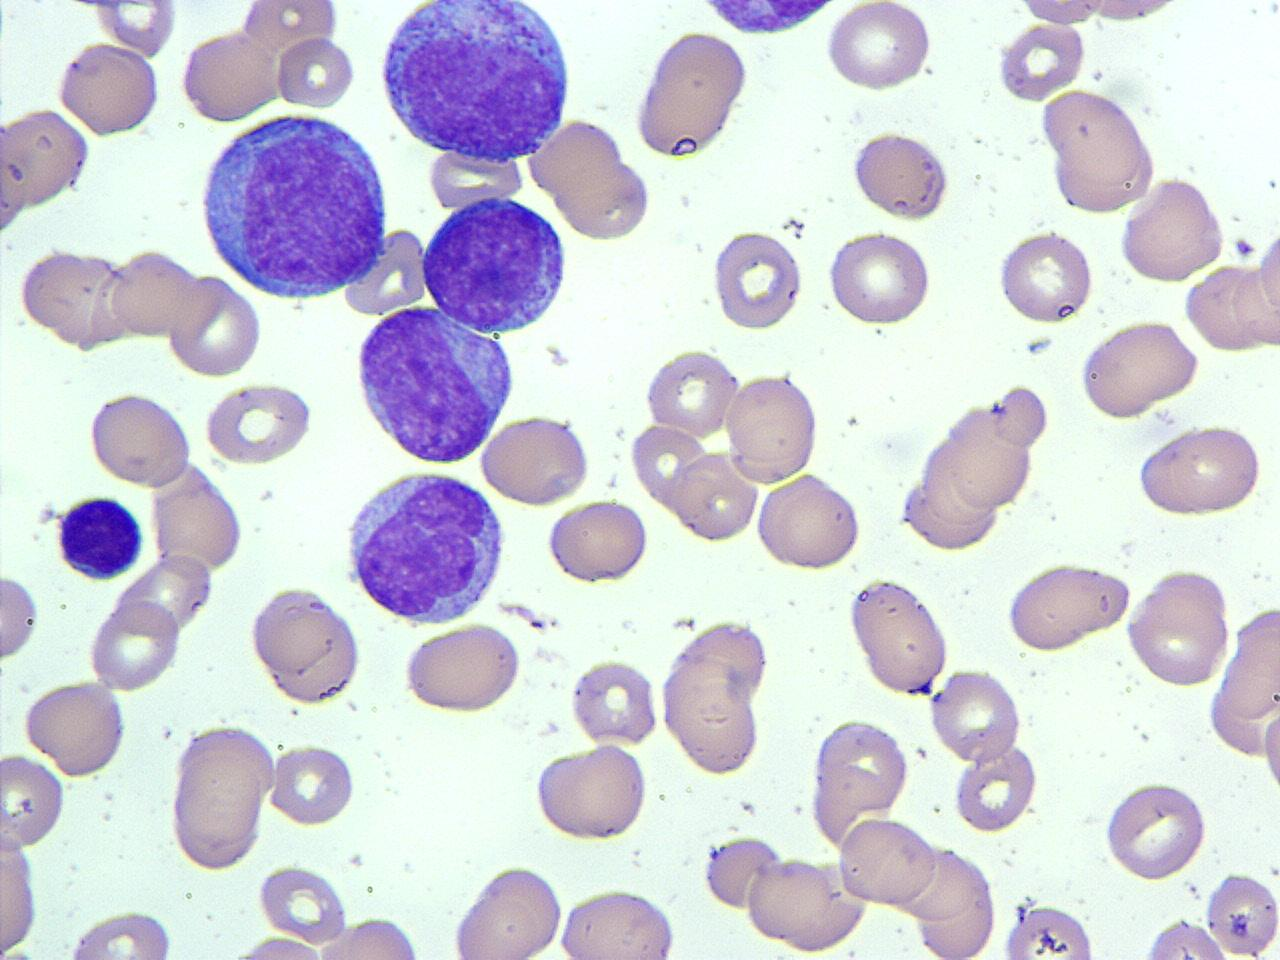Platelets: (1230, 234, 1256, 261), (1012, 899, 1027, 924)
RBC: (166, 722, 274, 874), (1037, 87, 1161, 216), (632, 29, 752, 161), (251, 586, 364, 708), (1124, 568, 1234, 690), (658, 654, 764, 778), (846, 575, 952, 697), (1078, 317, 1202, 421), (1134, 421, 1262, 520), (746, 853, 872, 953), (1117, 176, 1229, 285), (1006, 560, 1133, 654), (533, 741, 649, 843), (401, 620, 522, 717), (723, 368, 822, 484), (1102, 779, 1210, 884), (17, 246, 126, 350), (450, 864, 566, 960), (753, 471, 863, 573), (147, 464, 246, 576), (21, 677, 127, 779), (827, 227, 935, 327), (478, 413, 592, 507), (53, 40, 161, 139), (87, 388, 191, 489), (994, 227, 1098, 327), (165, 274, 263, 379), (824, 1, 936, 92), (546, 147, 653, 242), (710, 228, 806, 332), (930, 418, 1038, 511), (203, 379, 316, 467), (848, 128, 952, 223), (179, 27, 280, 125), (836, 816, 938, 911), (812, 716, 910, 814), (544, 498, 651, 587), (2, 105, 90, 211), (84, 597, 181, 692), (928, 665, 1022, 762), (559, 884, 680, 960), (641, 347, 741, 438), (913, 851, 997, 959), (106, 246, 202, 340), (950, 740, 1041, 834), (568, 656, 660, 746), (344, 225, 428, 320), (255, 860, 351, 943), (268, 740, 356, 830), (993, 20, 1085, 104), (674, 454, 760, 544), (1202, 867, 1280, 959), (1221, 604, 1279, 724), (630, 421, 708, 508), (274, 32, 358, 111), (0, 752, 66, 852), (700, 833, 784, 910), (63, 906, 178, 959), (999, 902, 1099, 960), (239, 0, 342, 54), (90, 0, 179, 61), (0, 830, 41, 957), (1230, 251, 1280, 351), (314, 915, 425, 959), (1133, 916, 1233, 960), (0, 566, 41, 662), (0, 117, 32, 239), (221, 934, 334, 960), (1009, 0, 1111, 28), (1256, 221, 1280, 334), (1260, 704, 1280, 800)
WBC: (195, 107, 391, 301), (372, 0, 575, 171), (350, 302, 520, 468), (340, 463, 510, 629), (416, 191, 572, 337), (245, 582, 362, 706), (53, 490, 148, 582), (674, 0, 857, 38)
